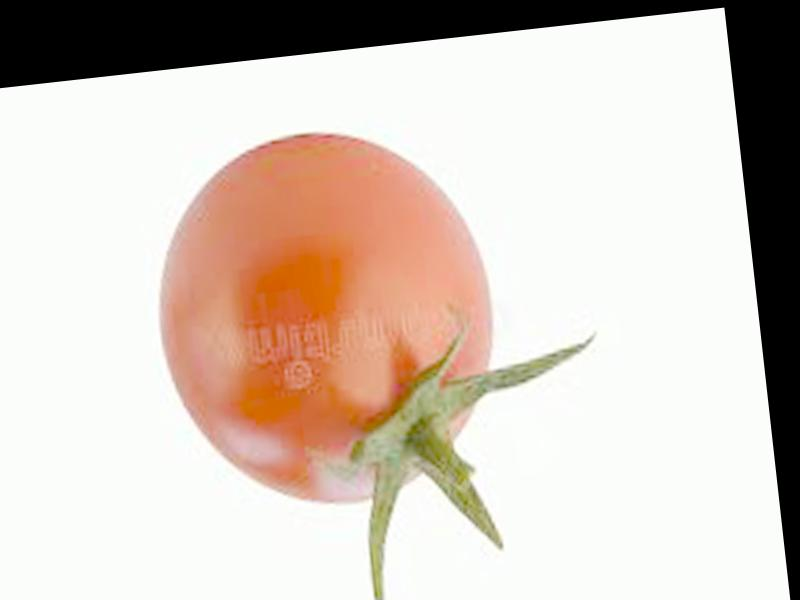Tomato: (139, 114, 507, 519)
